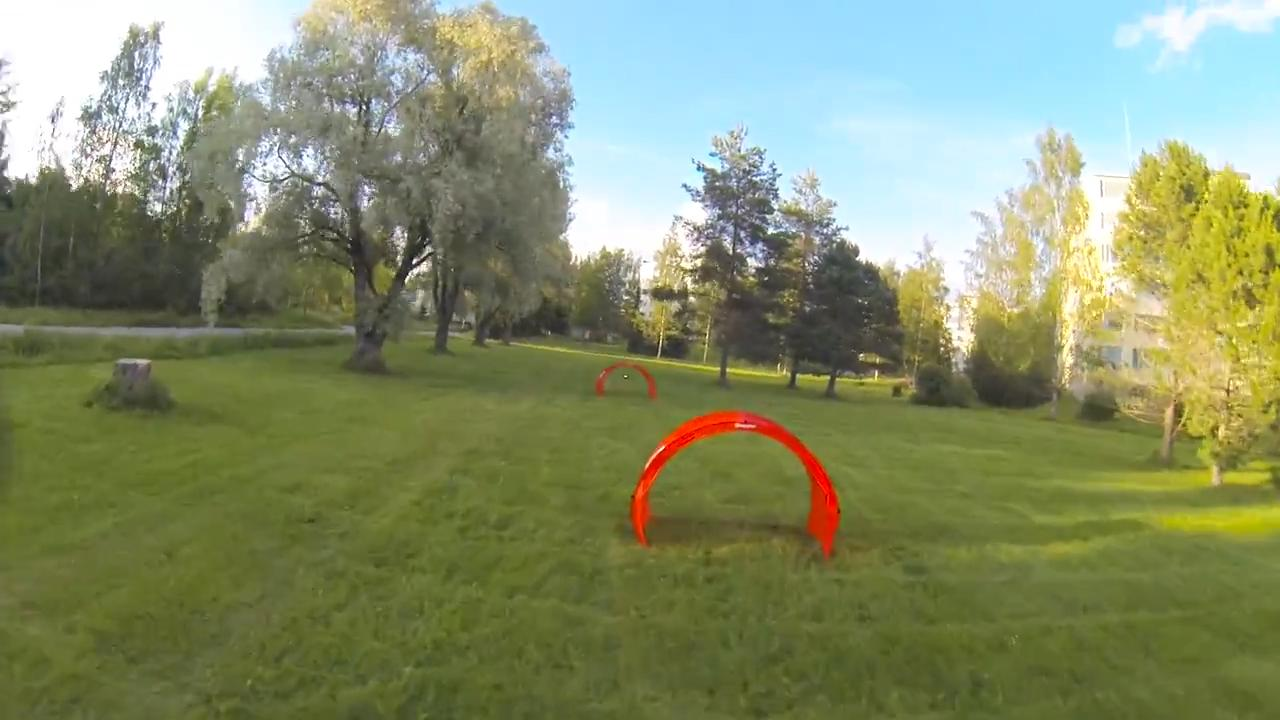gate: (622, 405, 836, 562)
